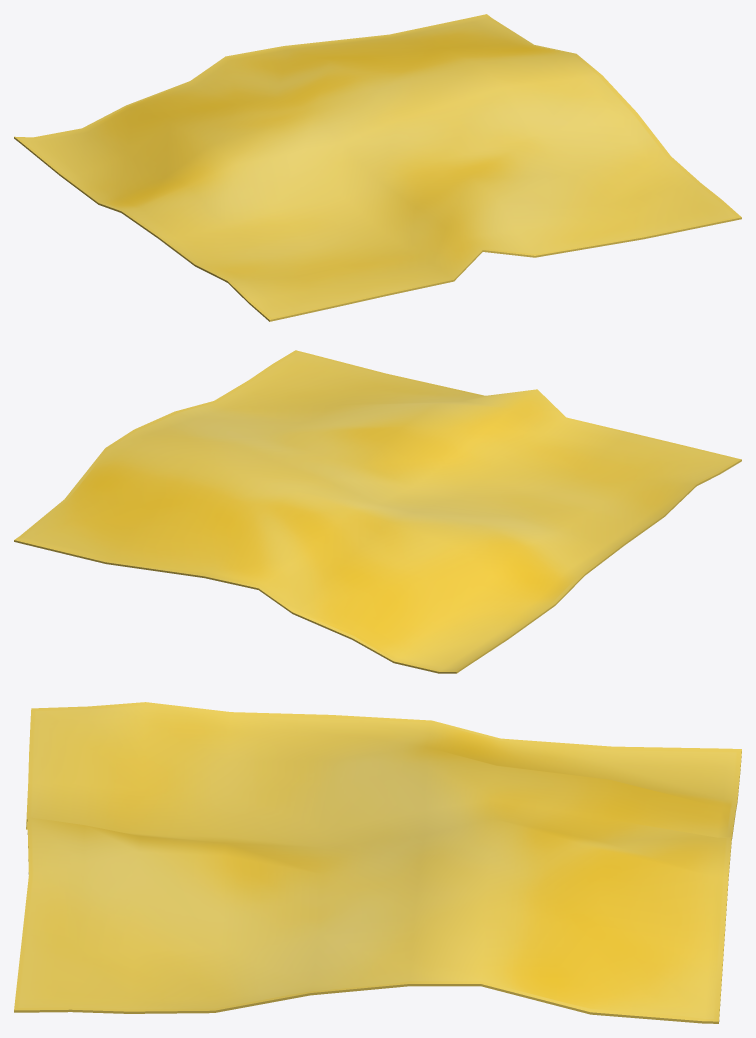
Rendered from Cloth.fbx.
The picture shows the model from 3 angles, top to bottom: view 1: azimuth 30°, elevation 25°; view 2: azimuth 150°, elevation 25°; view 3: azimuth 270°, elevation 25°; orthographic projection. The views are drawn at different scales.
Parts seen in each view (by area): view 1: Cloth3:Cloth2; view 2: Cloth3:Cloth2; view 3: Cloth3:Cloth2.
Part boxes in pixels (x1,y1,x2,y2): Cloth3:Cloth2: (14,14,741,321); Cloth3:Cloth2: (14,350,741,673); Cloth3:Cloth2: (14,702,741,1023).
Bounding box in the file's own units: 0.2511 × 0.0315 × 0.2533.
